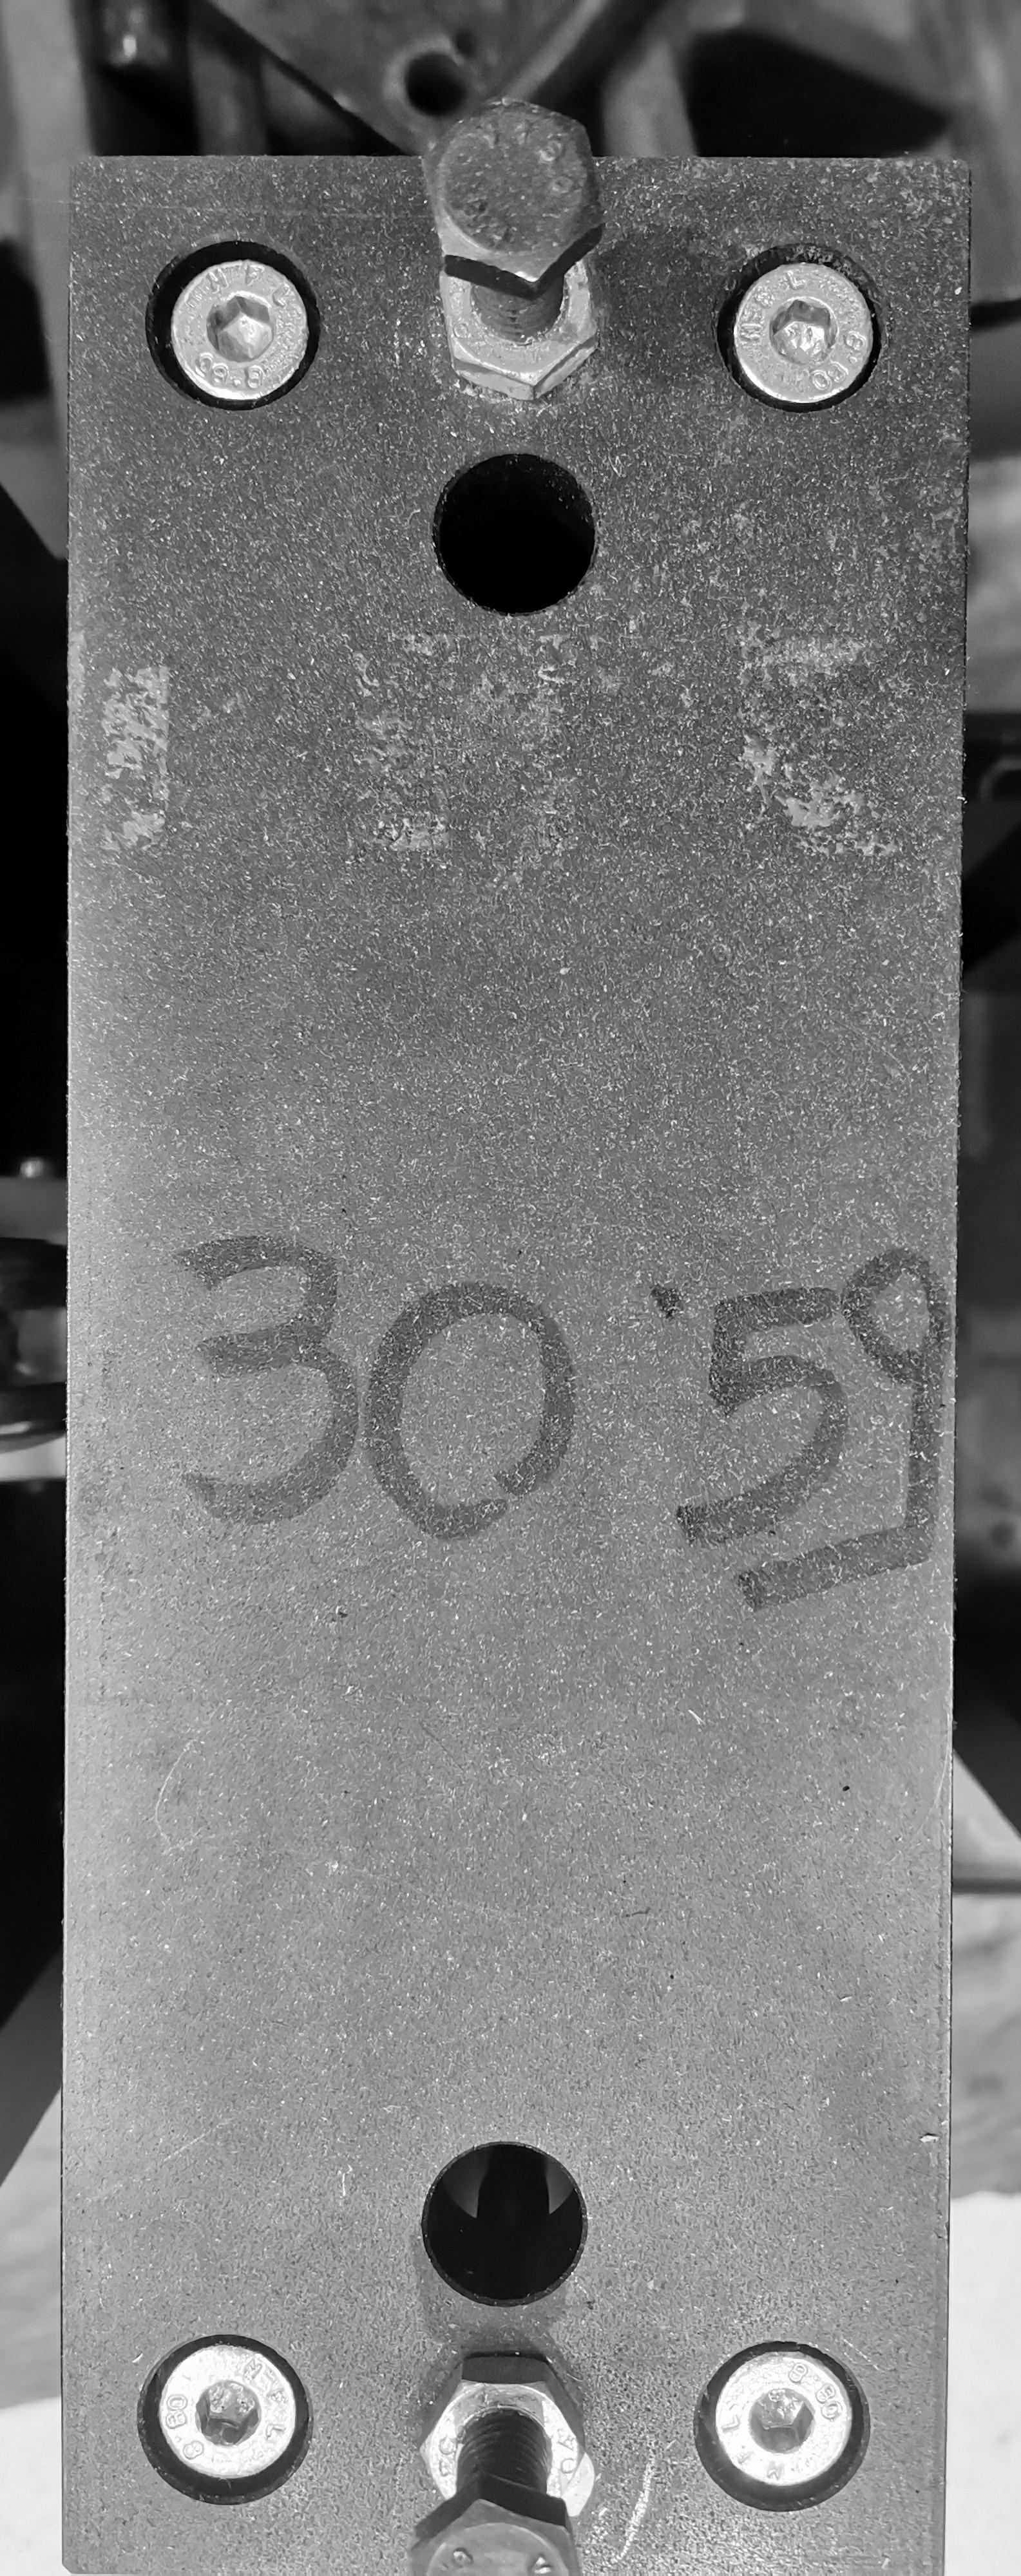screw: (401, 79, 621, 301), (132, 222, 334, 422), (712, 227, 898, 422), (689, 2331, 880, 2514), (122, 2338, 306, 2520)
